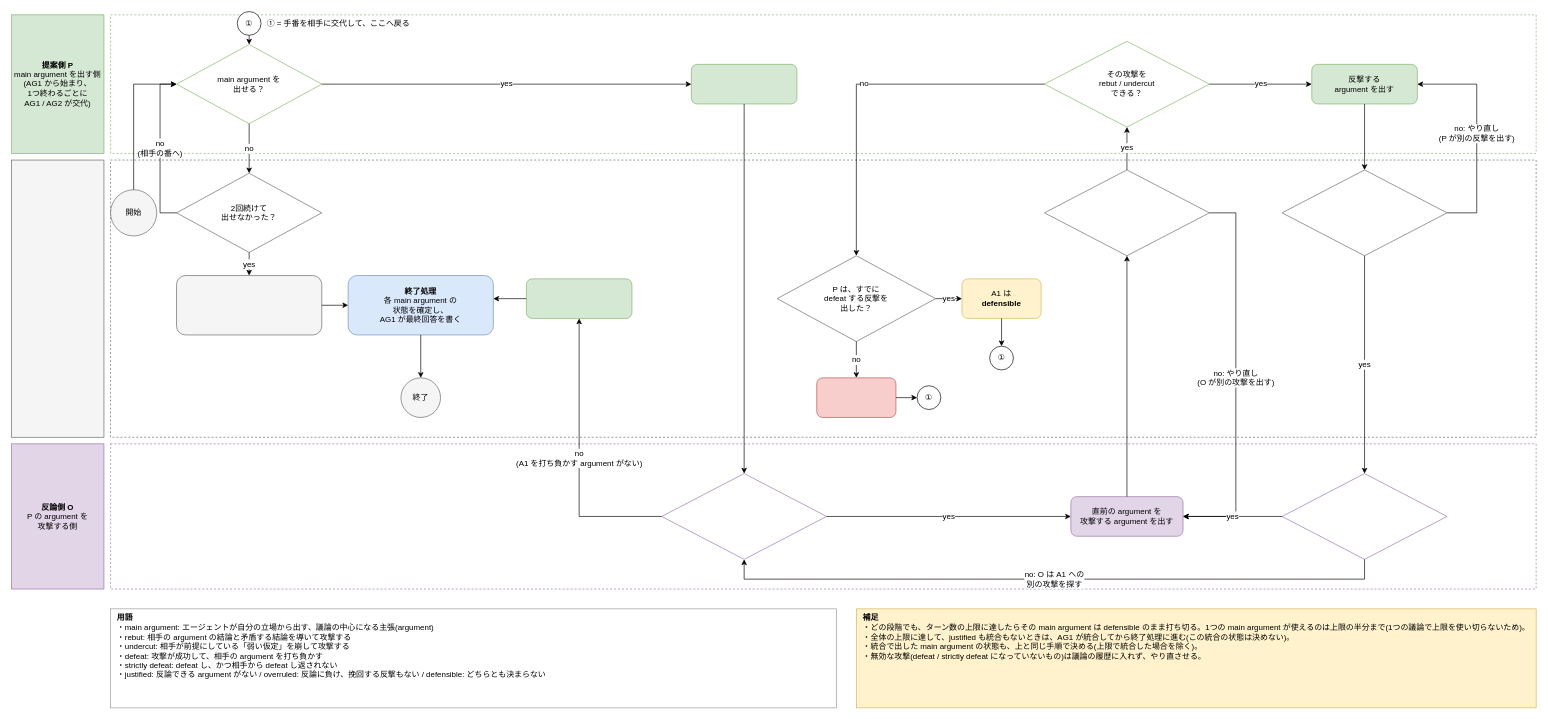
The diagram is 1548 pixels wide and 719 high, and some of its shapes have lost their labels. Each missing label, with the centre of its shape:
A1 は justified: point 579,298
A1 は overruled: point 856,397
A1 を rebut / undercut できる？: point 744,516
main argument (A1) を出す: point 744,84
その反撃を rebut / undercut できる？: point 1364,516
システム 機械的に判定する: point 57,298
反撃になっている？ (strictly defeat している): point 1364,212
有効な攻撃に なっている？ (defeat している): point 1126,212
統合する (1回だけ) 両者の main argument から 新しい rule を作り、 それを使った main argument を出す: point 249,305
